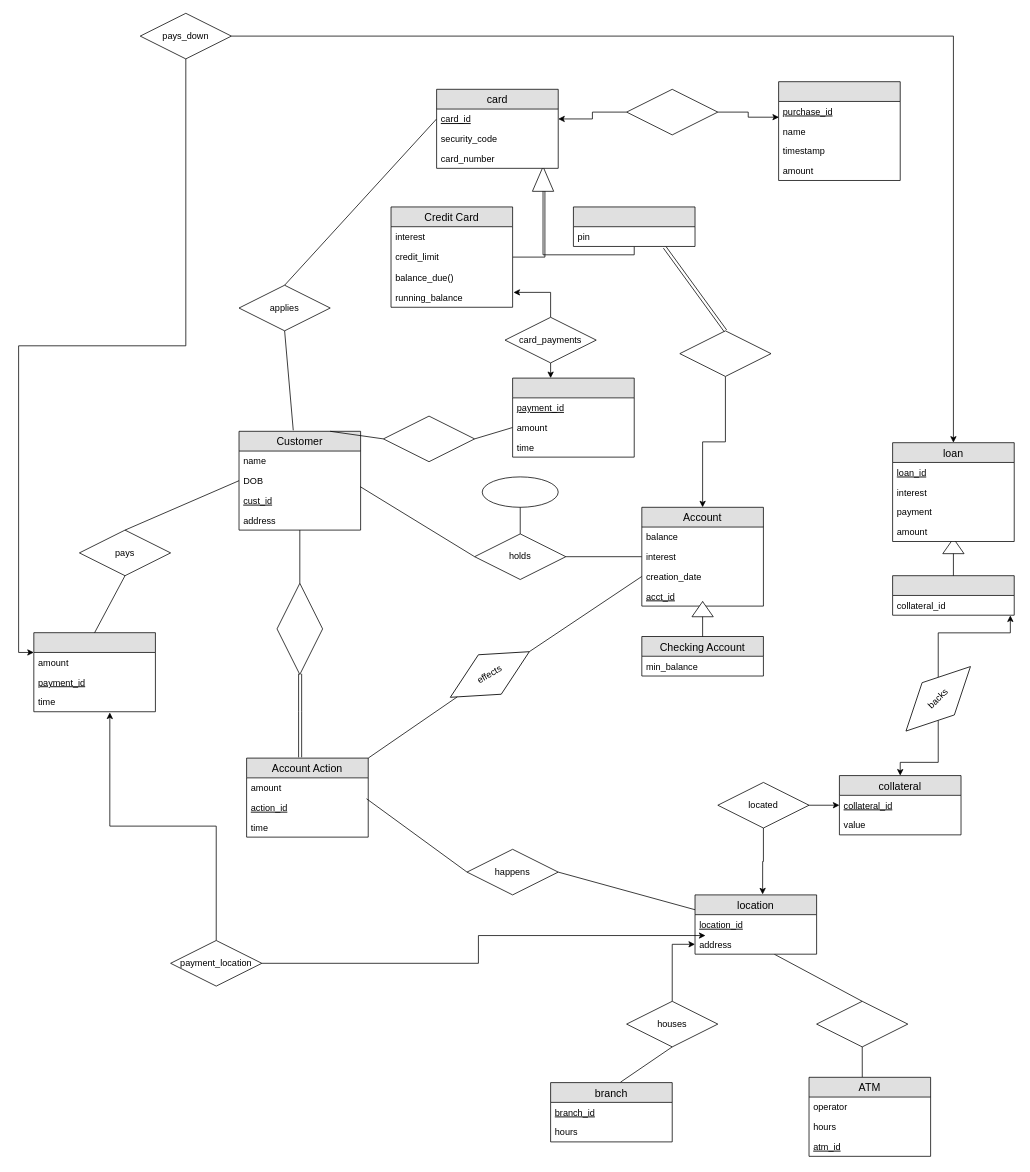
The diagram is 1030 pixels wide and 1172 high, and some of its shapes have lost their labels. The shapes that lost their labels are listed below. From the top down, each one's box as (x1, y1, x2, y2) in pixels, then its label:
(626, 89, 718, 135): buys
(778, 81, 900, 180): Purchases
(573, 206, 695, 246): Debit Card
(679, 330, 771, 376): attaches
(512, 377, 634, 457): Card Action
(383, 415, 475, 462): makes
(481, 476, 558, 507): add_date
(892, 575, 1014, 615): Secured Loan
(276, 583, 323, 674): performs
(33, 632, 155, 712): Loan Action
(816, 1001, 908, 1047): contains
